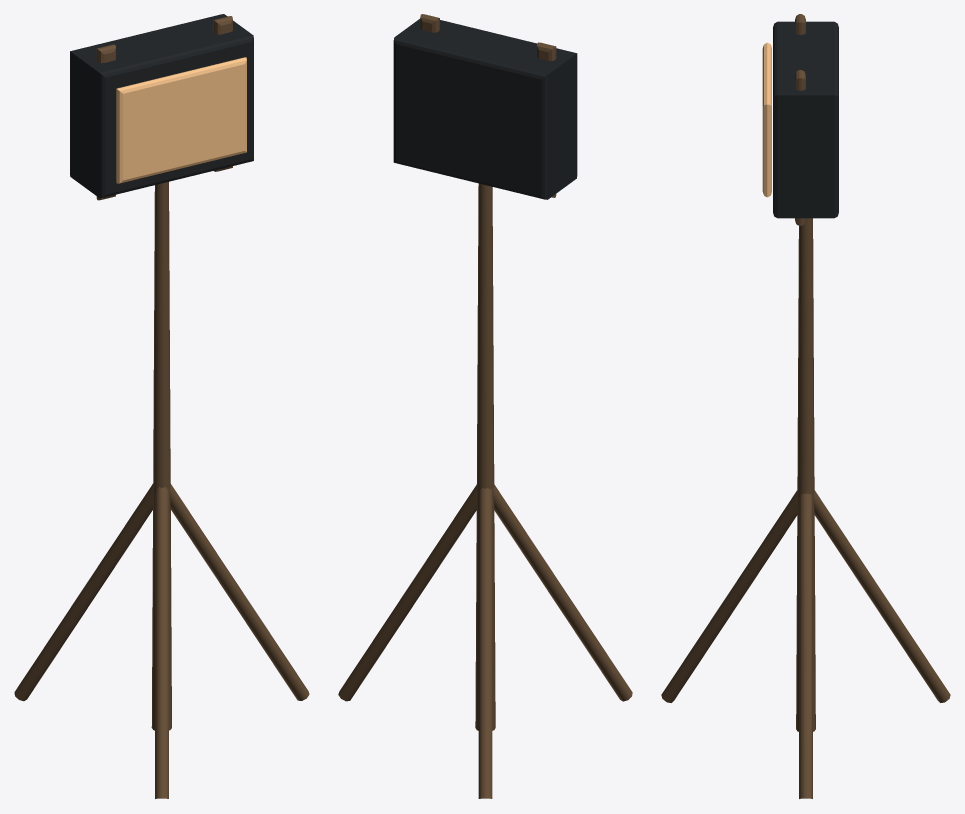
Rendered from tripod-work-light.glb.
3 renders of one model, left to right at view 1: azimuth 30°, elevation 25°; view 2: azimuth 150°, elevation 25°; view 3: azimuth 270°, elevation 25°, orthographic. The views are drawn at different scales.
Visible parts, largest first — view 1: tripod-work-light; view 2: tripod-work-light; view 3: tripod-work-light.
Boxes of the visible parts, <box> form: tripod-work-light: <box>14,14,309,798</box>; tripod-work-light: <box>338,14,632,798</box>; tripod-work-light: <box>661,14,950,798</box>.
Size of the model in its own units: 0.4592 by 1.38 by 0.5254.
